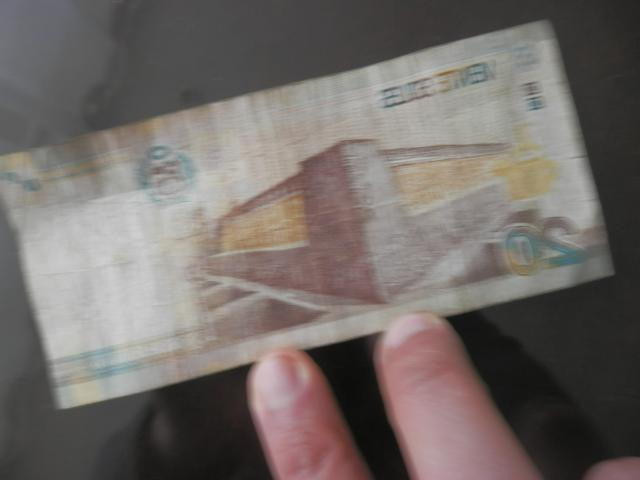B20: (1, 18, 614, 408)
